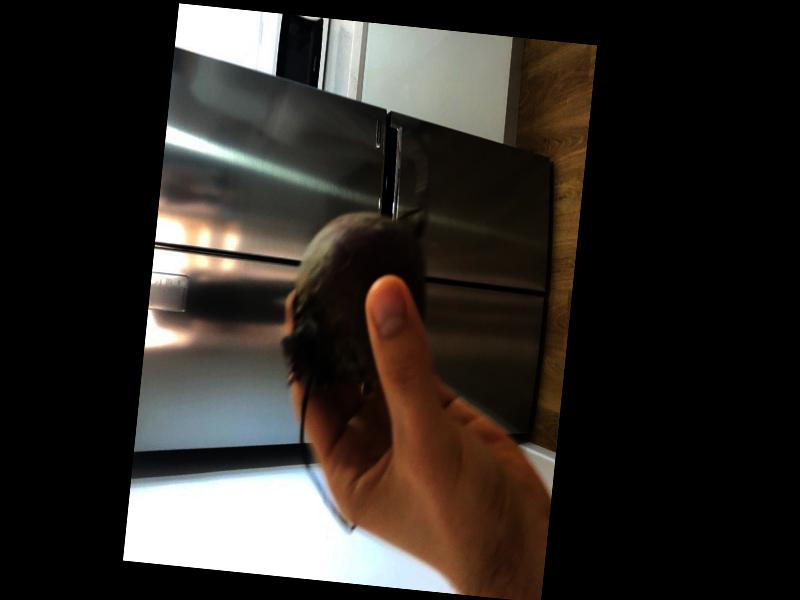Beet: (264, 174, 435, 535)
